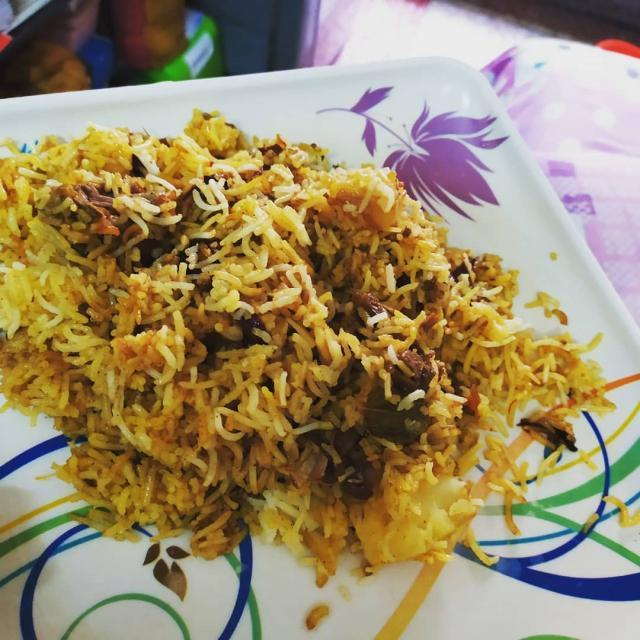biryani: (0, 118, 536, 582)
